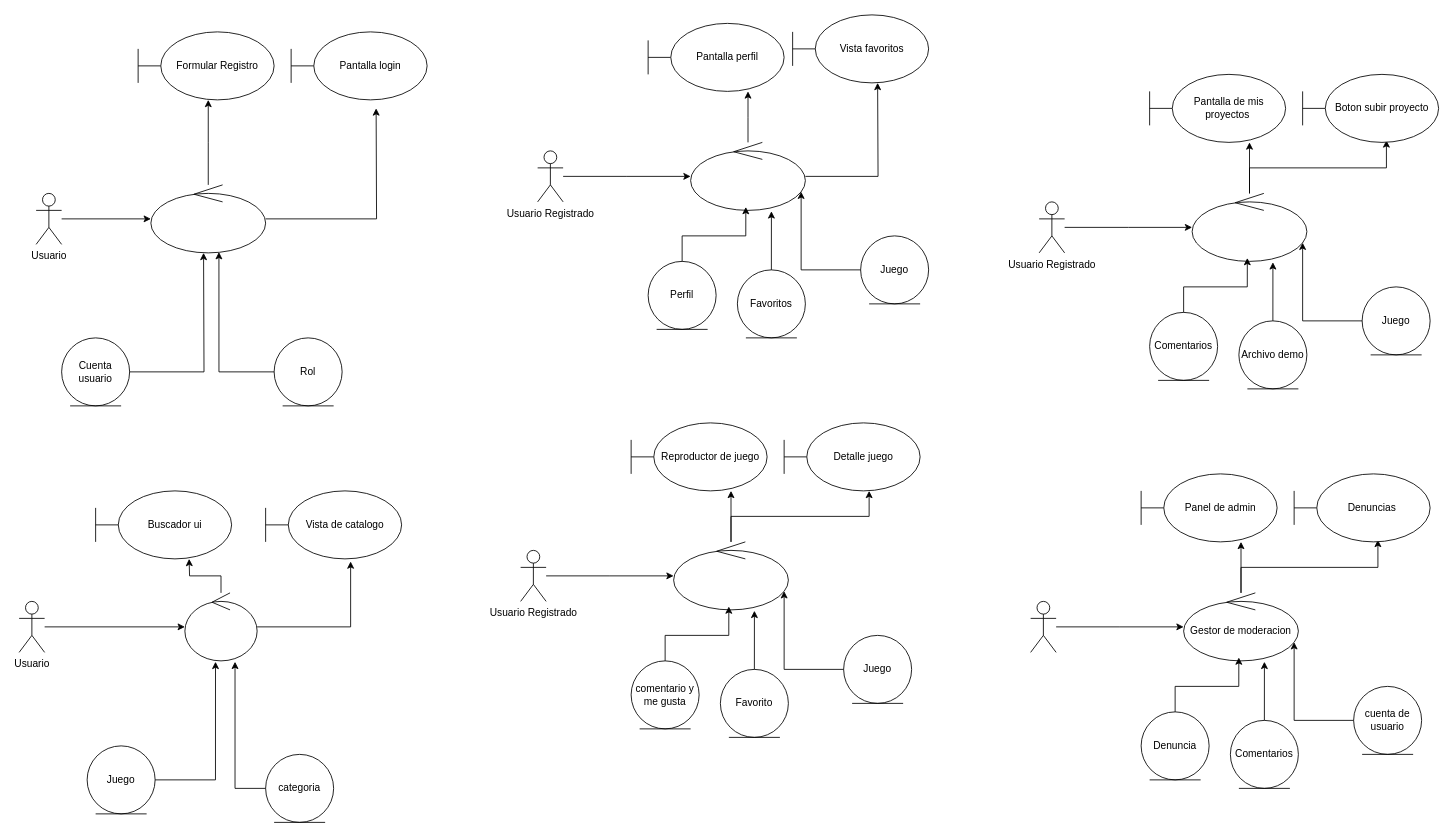
Some shapes in this 1454 by 837 pixel diagram are drawn without their labels. Here are the shapes that lost their labels. From the top down, the box of each, then its label:
(690, 142, 805, 210): Gestor de perfil
(150, 184, 266, 253): Gestor Autenticacion
(1191, 193, 1307, 261): Gestor de proyecto
(673, 541, 788, 610): Control de interaccion
(184, 592, 257, 661): Buscador de juego
(1030, 601, 1056, 652): Administrador
